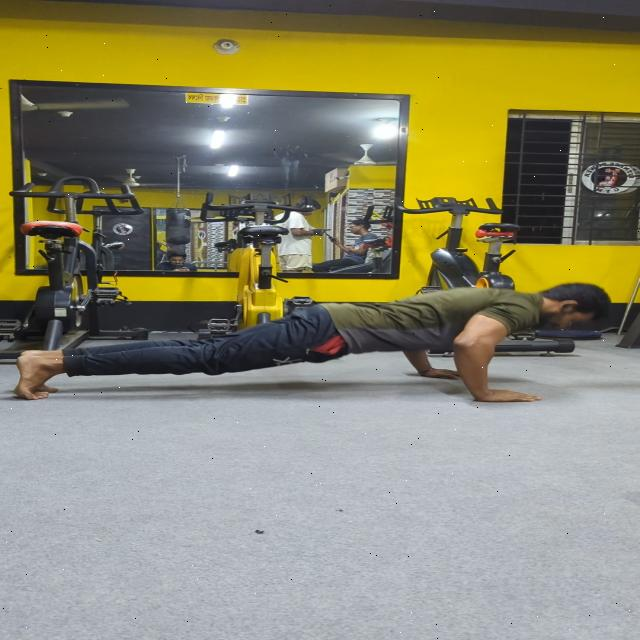Normal_PushUps: (0, 260, 634, 476)
